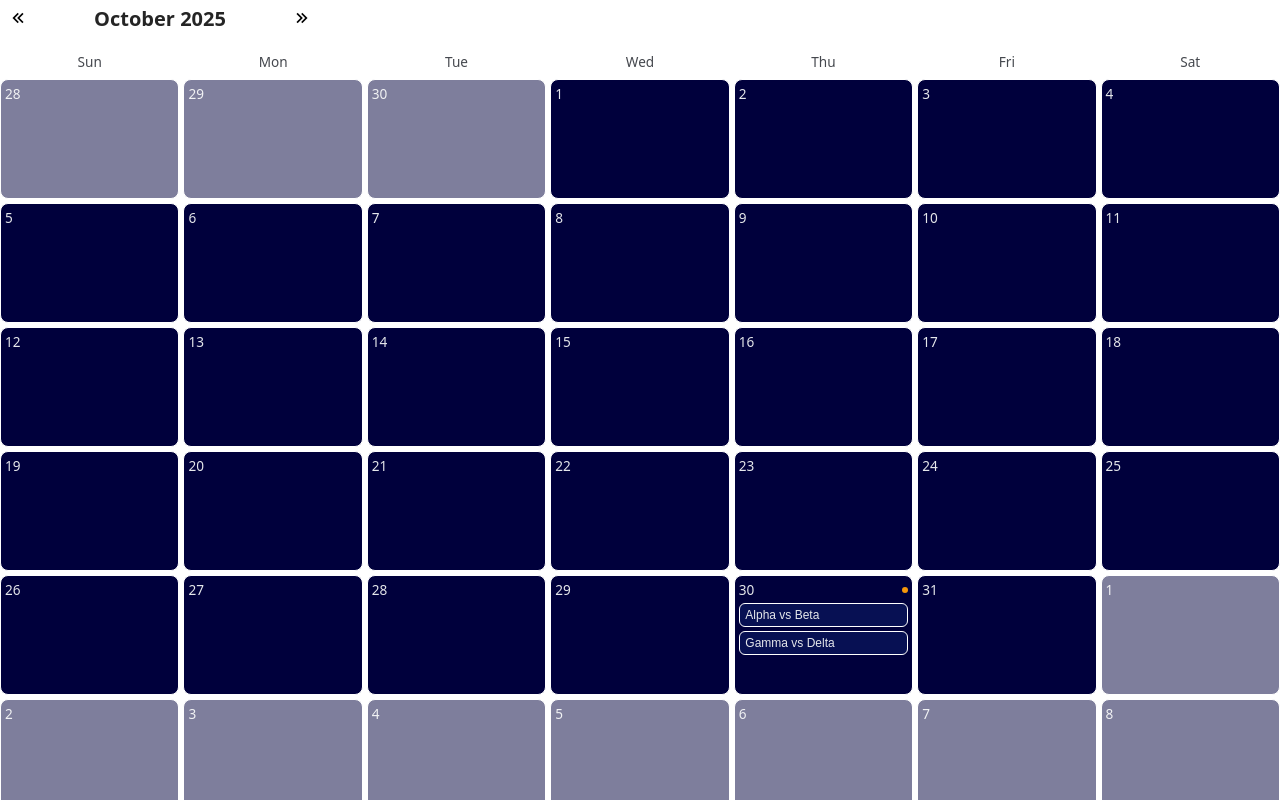
Test case: Calendar › opens modal on mobile day click and shows friendly date label
Click the element named "2 event(s)" at (823, 635), box [734,575,913,695]
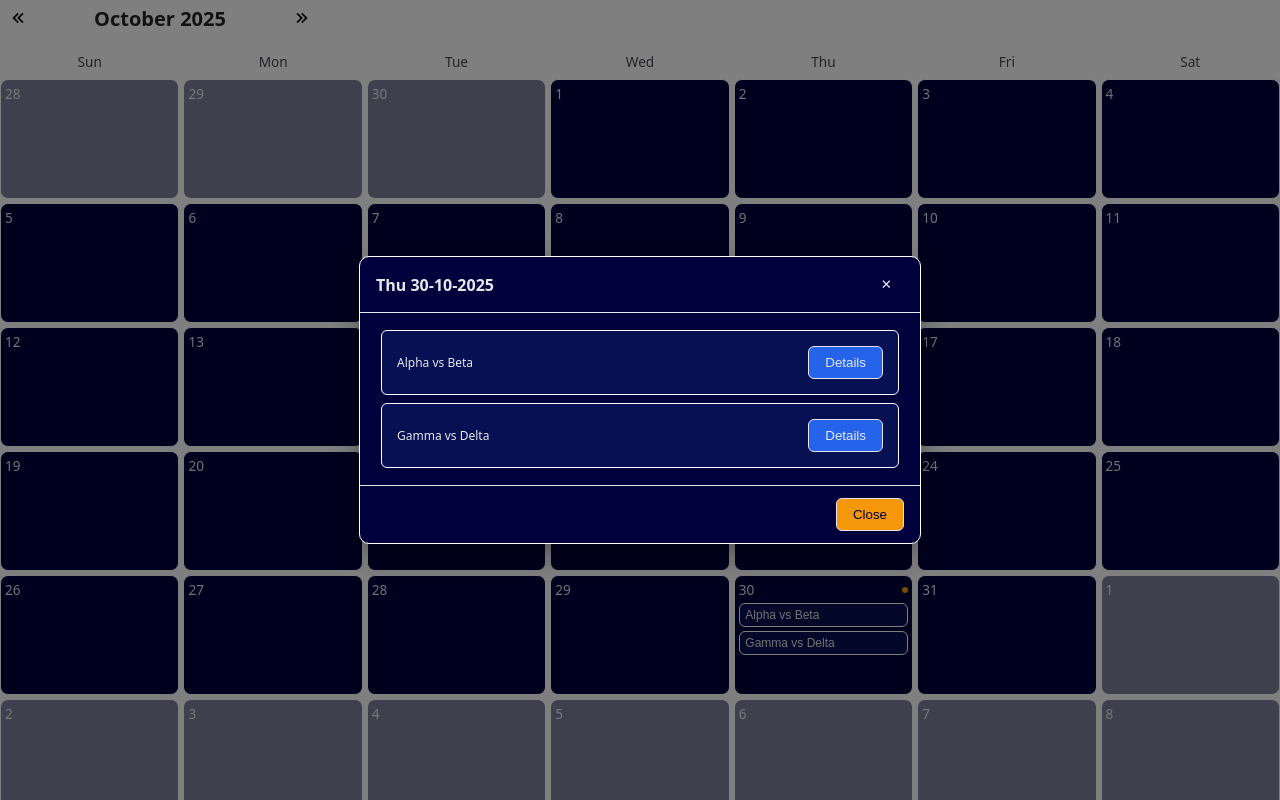
Result: the dialog is shown
Result: the text "Thu 30-10-2025" is shown at [376,274,494,296]
Result: the text "Alpha vs Beta" is shown at [397,354,473,371]
